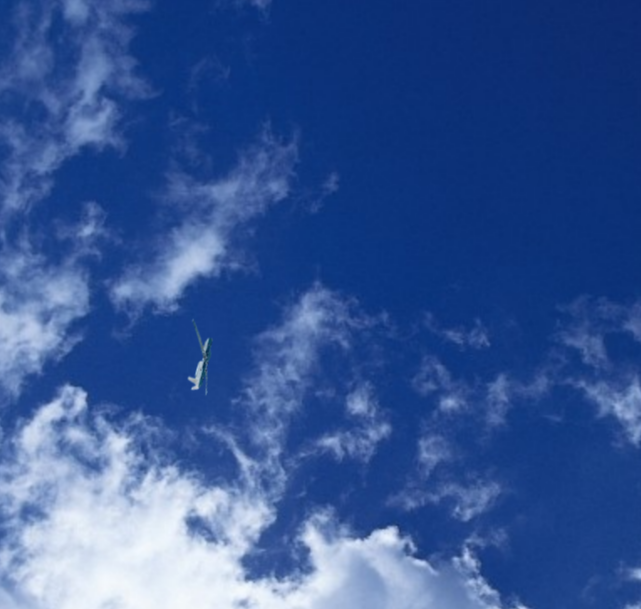military drone: (186, 317, 211, 396)
